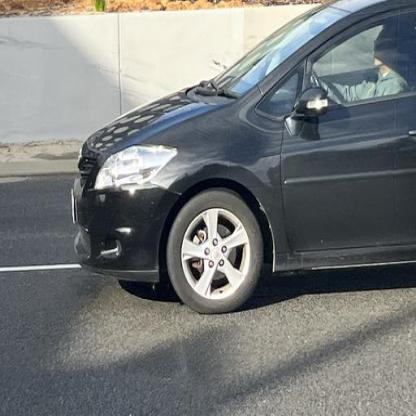Tire: (167, 186, 265, 314)
